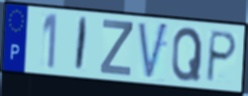1: (40, 11, 58, 72)
I: (73, 15, 90, 73)
P: (204, 28, 239, 84)
Q: (170, 25, 204, 83)
V: (136, 20, 170, 83)
Z: (98, 18, 134, 78)
